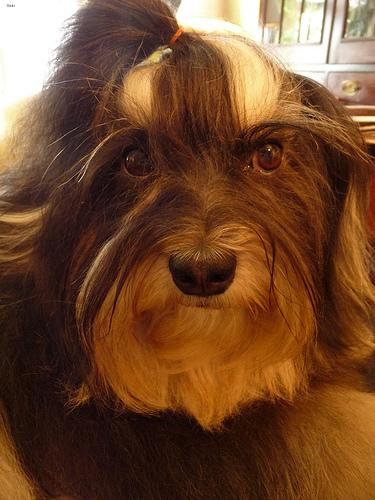dog-havanese: (33, 57, 361, 342)
